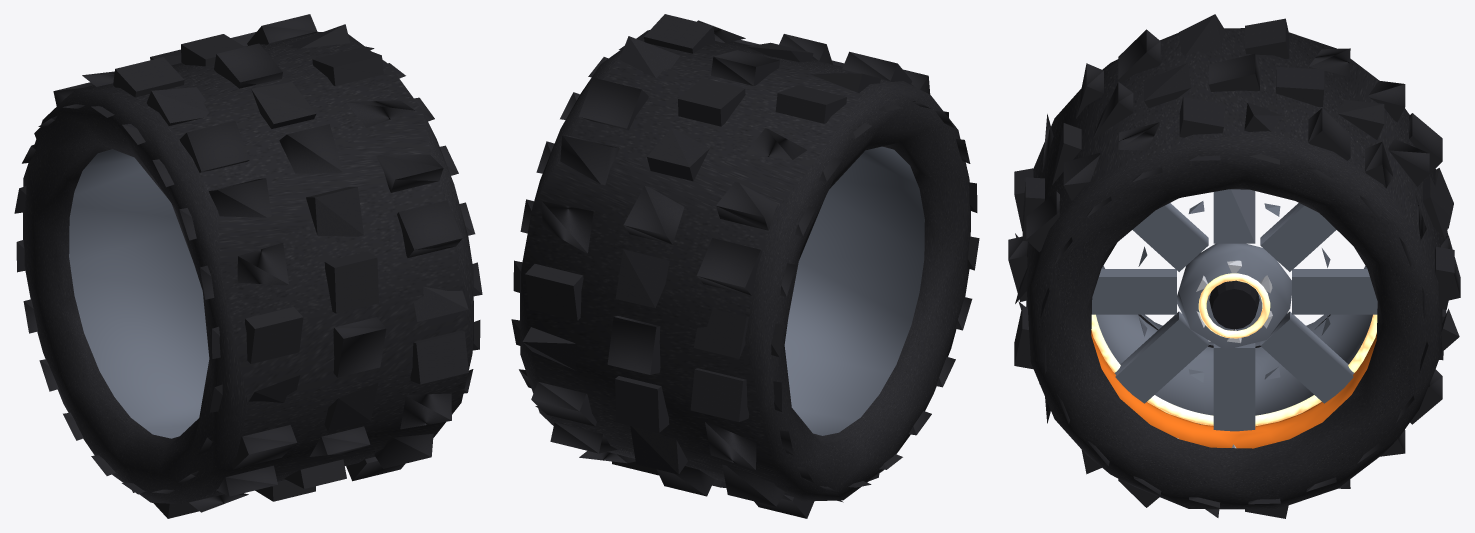
The model's file is tyre-mudclaw-lp.glb.
The picture shows the model from 3 angles, left to right: view 1: azimuth 30°, elevation 25°; view 2: azimuth 150°, elevation 25°; view 3: azimuth 270°, elevation 25°; orthographic projection. The views are drawn at different scales.
Visible parts, largest first — view 1: Tyre_Rubber, Rim; view 2: Tyre_Rubber, Rim; view 3: Tyre_Rubber, Rim, Beadlock, Hub, LED_Ring, LED_Seg_1, LED_Seg_8, Chrome, LED_Seg_2, LED_Seg_7.
Boxes of the visible parts, x1,y1,x2,y2 form: Tyre_Rubber: (14,14,482,518); Rim: (69,149,209,438); Tyre_Rubber: (511,14,979,518); Rim: (784,146,924,435); Tyre_Rubber: (1008,14,1460,518); Rim: (1092,189,1377,431); Beadlock: (1091,330,1376,448); Hub: (1209,280,1259,329); LED_Ring: (1198,273,1270,338); LED_Seg_1: (1147,395,1213,425); LED_Seg_8: (1255,395,1321,426); Chrome: (1177,260,1272,448); LED_Seg_2: (1091,314,1120,372); LED_Seg_7: (1348,314,1377,372).
Bounding box in the file's own units: 0.188 × 0.283 × 0.283.
Materials: 14 (1 with a texture image).
